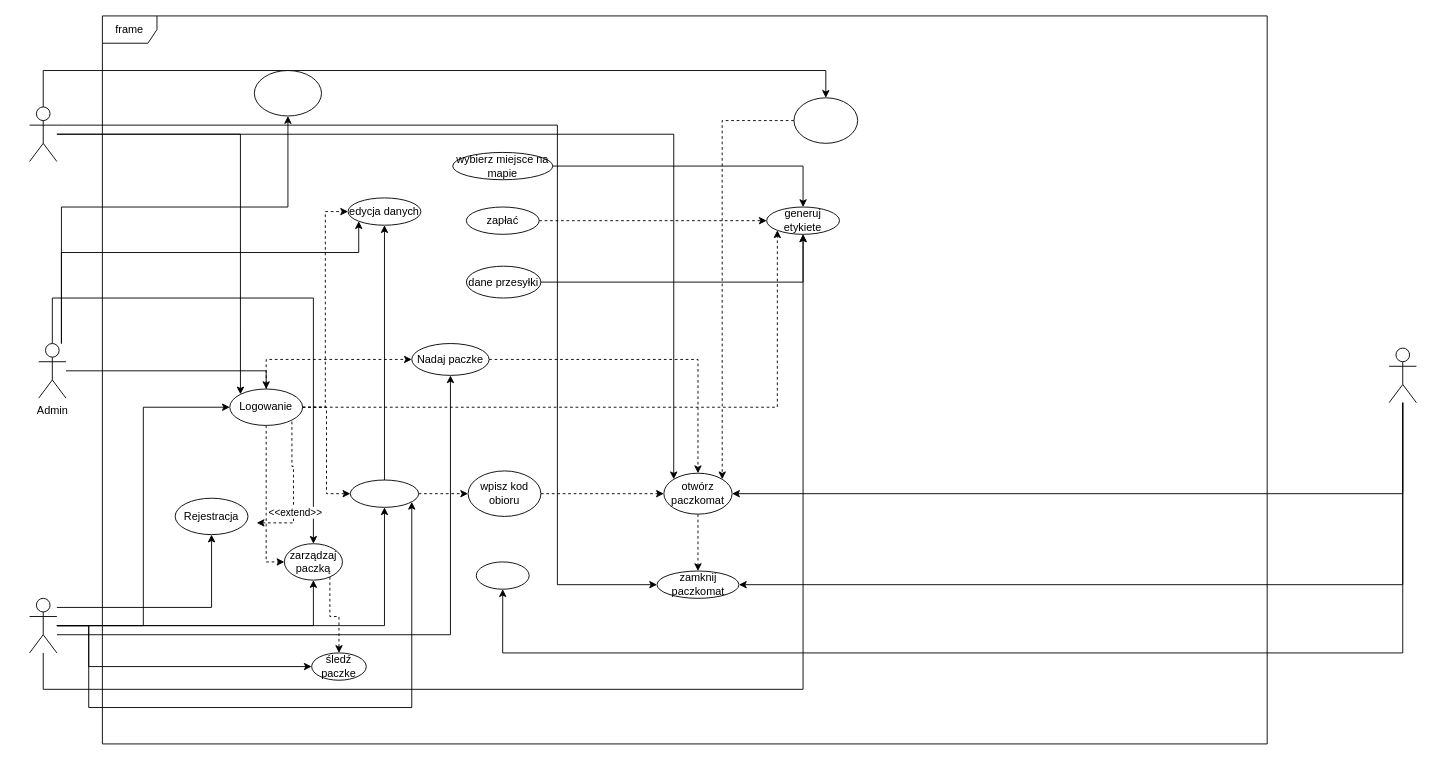
This 1445x760 diagram has some shape labels left out. The box of each missing label's shape, as (x1, y1, x2, y2) in pixels:
dodaj konto: (253, 70, 322, 116)
dostarcz paczke: (793, 97, 858, 143)
Kurier: (29, 106, 57, 162)
Odbierz paczke: (349, 479, 419, 507)
Paczkomat: (1388, 347, 1416, 403)
Użytkownik: (29, 597, 57, 653)
wyślij sms: (475, 561, 529, 589)
